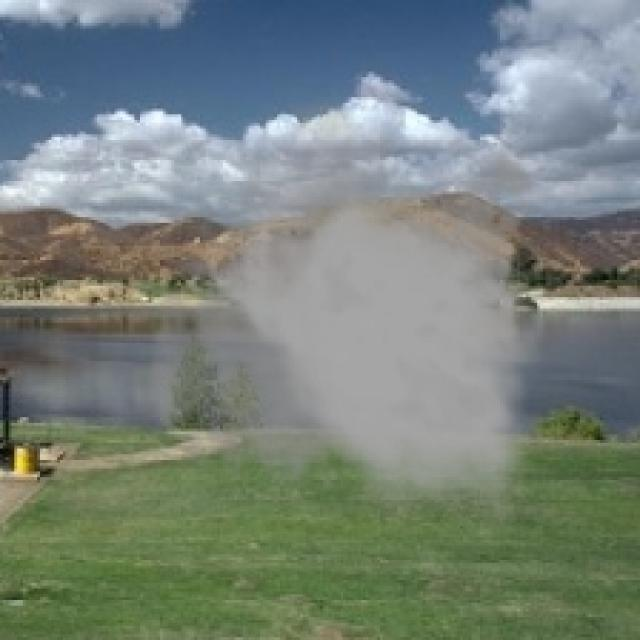Smoke: (142, 100, 548, 523)
